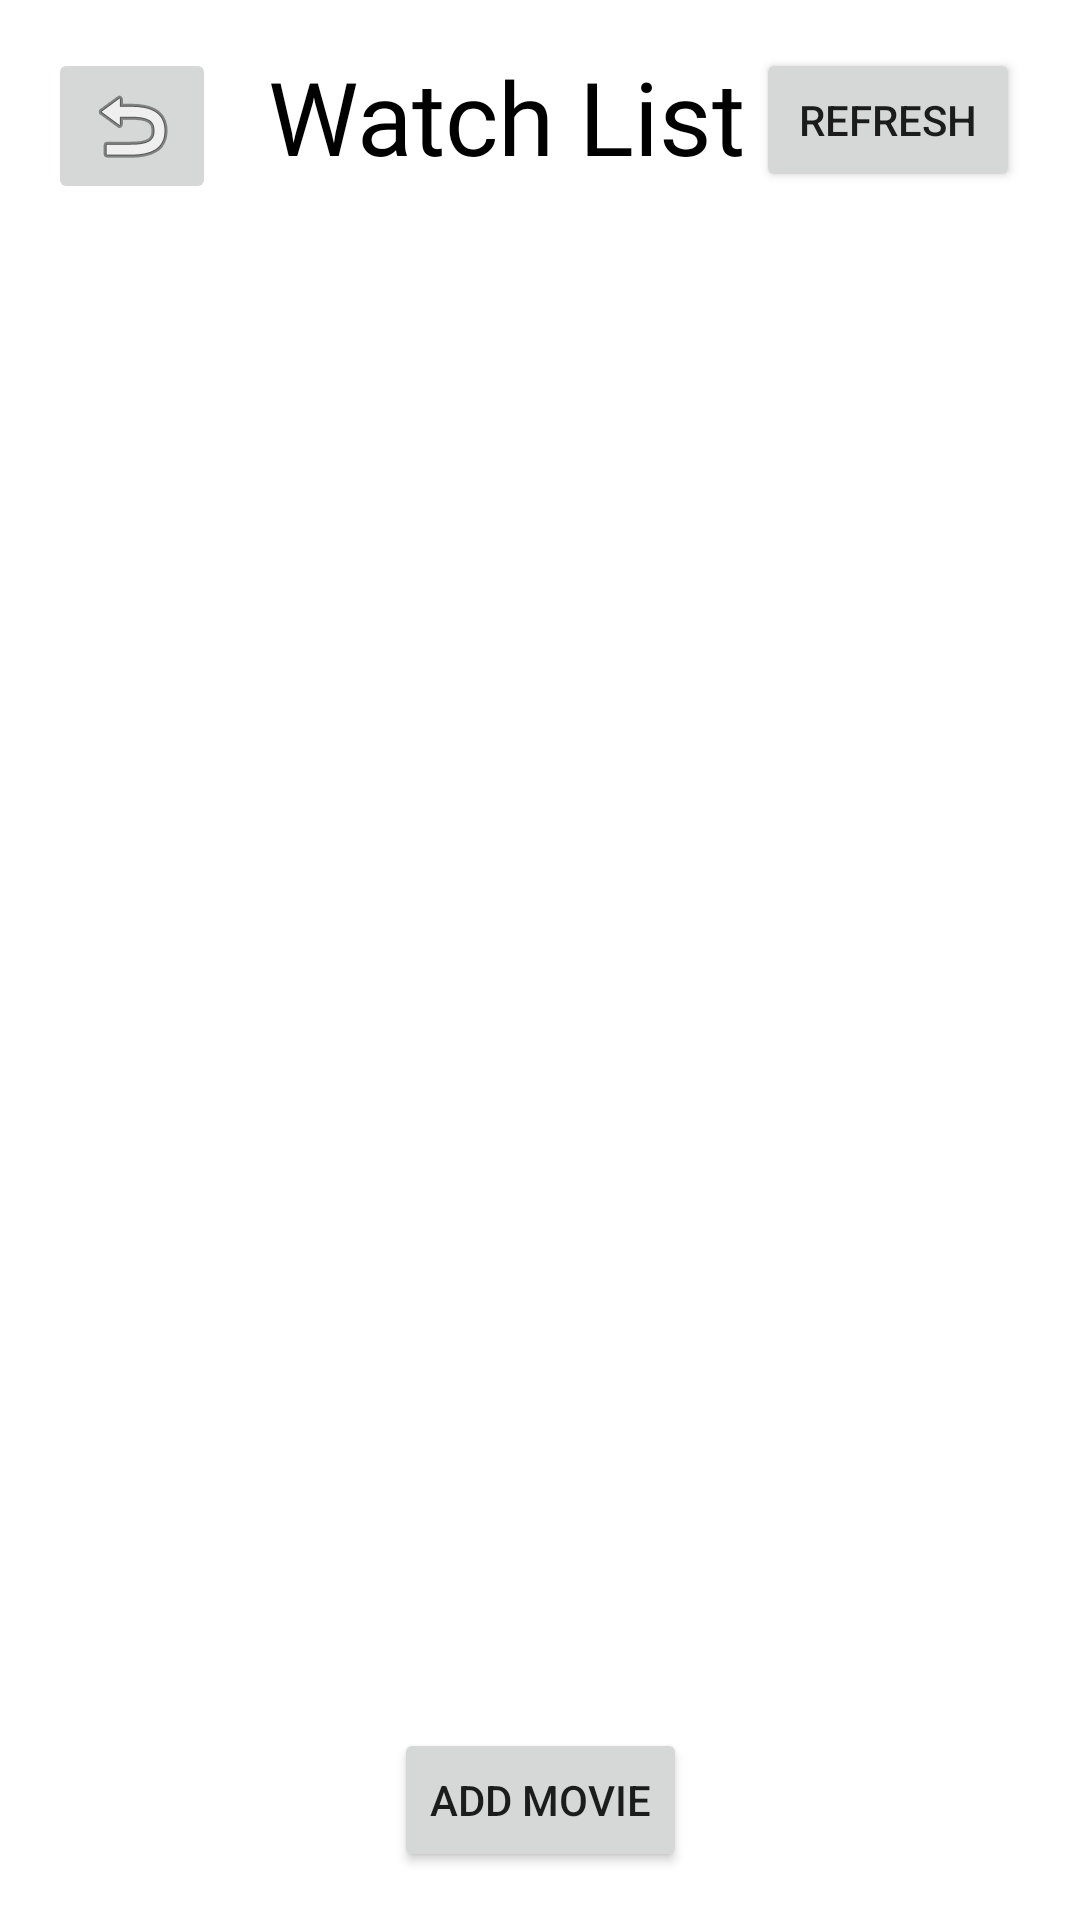

Icon bounding boxes for this 1080 x 1920 phone screenshot, format (x1, y1, x2, y2):
revert: (60, 66, 204, 186)
